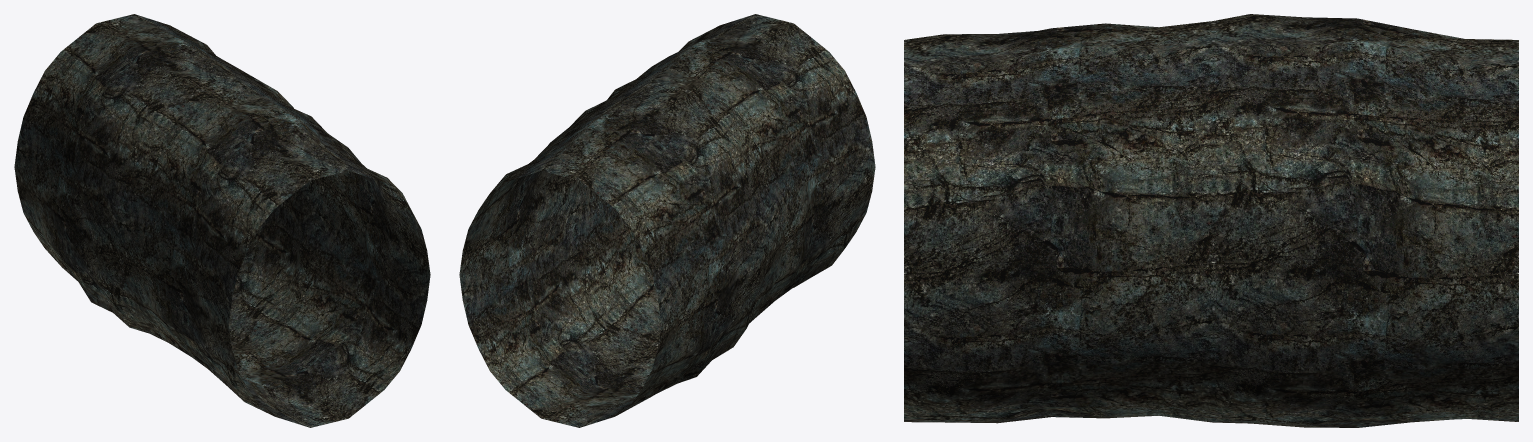
File: tunnel_theta.dae
3 renders of one model, left to right at view 1: azimuth 30°, elevation 25°; view 2: azimuth 150°, elevation 25°; view 3: azimuth 270°, elevation 25°, orthographic. The views are drawn at different scales.
Parts seen in each view (by area): view 1: straight; view 2: straight; view 3: straight.
Part boxes in pixels (<box>): straight: <box>14,14,430,427</box>; straight: <box>459,14,875,427</box>; straight: <box>904,14,1518,427</box>.
Size of the model in its own units: 4.49 by 5.53 by 8.
